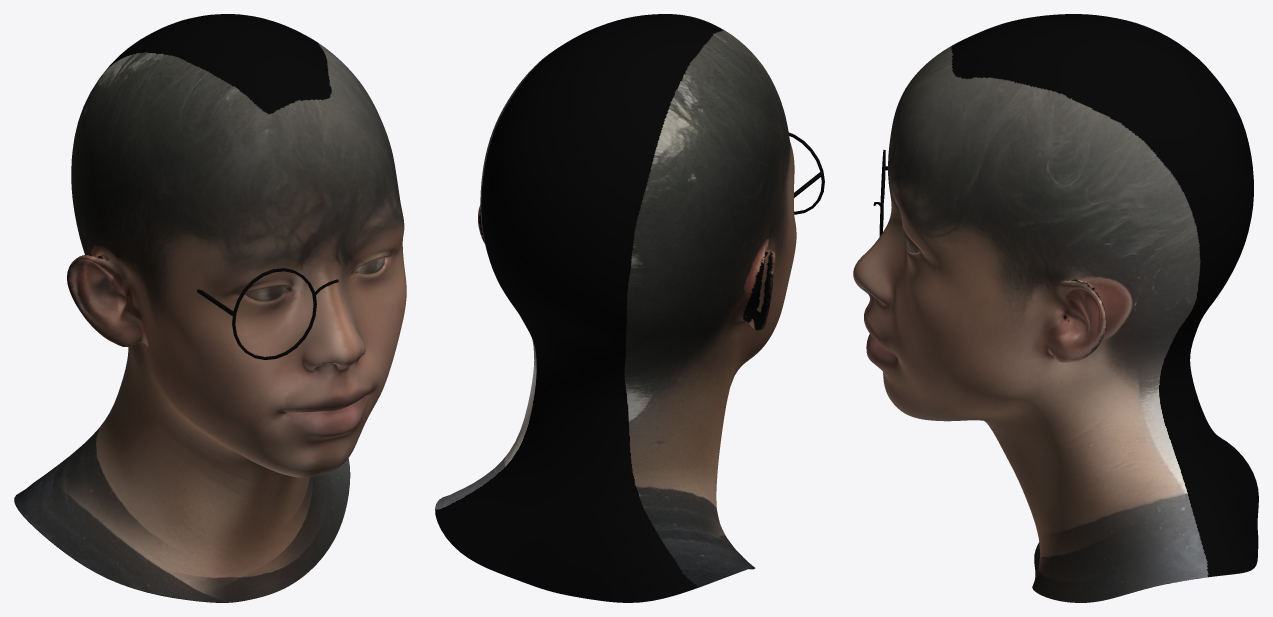
Rendered from headShape.gltf.
3 views of the same model, side by side, from view 1: azimuth 30°, elevation 25°; view 2: azimuth 150°, elevation 25°; view 3: azimuth 270°, elevation 25° (orthographic). The views are drawn at different scales.
Visible parts, largest first — view 1: FBHead, glasses frame; view 2: FBHead, glasses frame; view 3: FBHead.
Boxes of the visible parts, x1,y1,x2,y2 form: FBHead: (14,14,406,602); glasses frame: (197,268,338,359); FBHead: (435,14,796,602); glasses frame: (788,132,824,214); FBHead: (853,14,1258,602).
Bounding box in the file's own units: 1.73 × 2.9 × 1.94.
2 materials, 1 textured.
